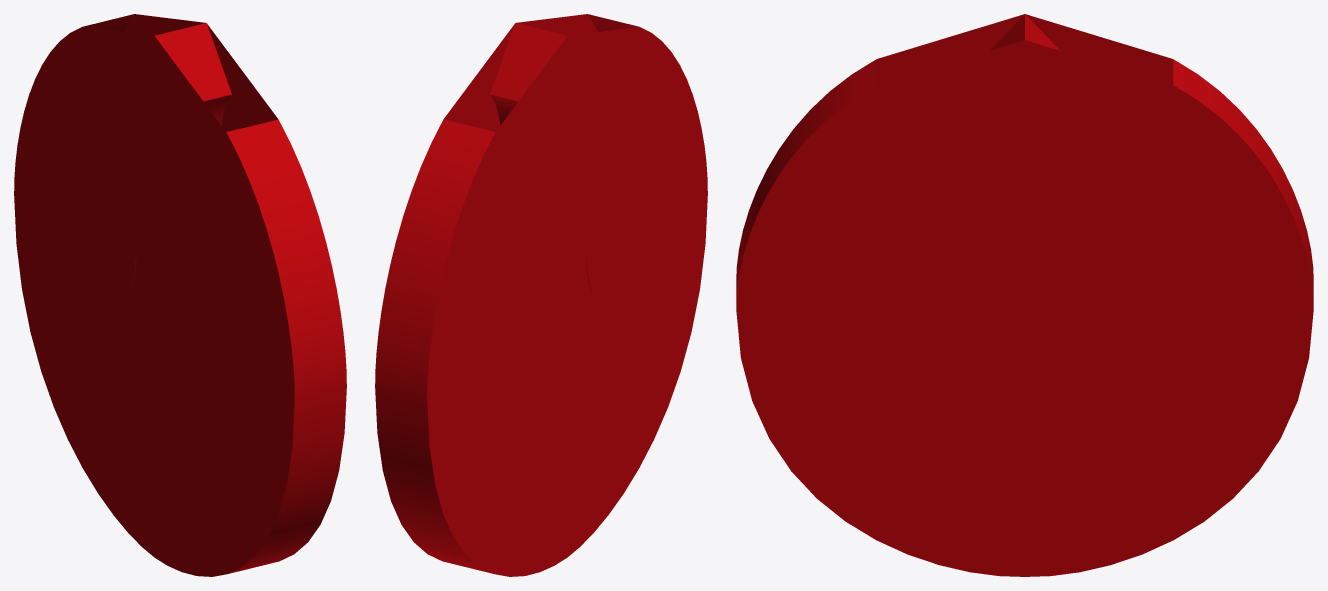
The model's file is Rebel Symbol.fbx.
3 renders of one model, left to right at view 1: azimuth 30°, elevation 25°; view 2: azimuth 150°, elevation 25°; view 3: azimuth 270°, elevation 25°, orthographic. The views are drawn at different scales.
Parts seen in each view (by area): view 1: Rebel Symbol; view 2: Rebel Symbol; view 3: Rebel Symbol.
Boxes of the visible parts, x1,y1,x2,y2 form: Rebel Symbol: (14,14,346,576); Rebel Symbol: (375,14,707,576); Rebel Symbol: (736,14,1313,576).
Bounding box in the file's own units: 10.33 × 97.57 × 95.11.
